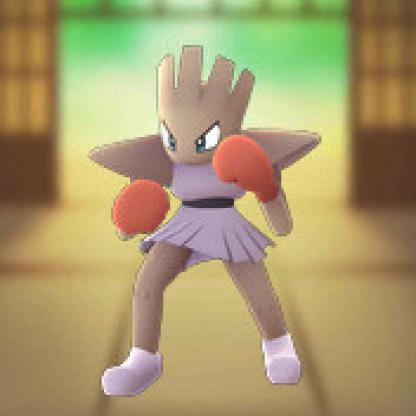Hitmonchan: (86, 38, 321, 405)
